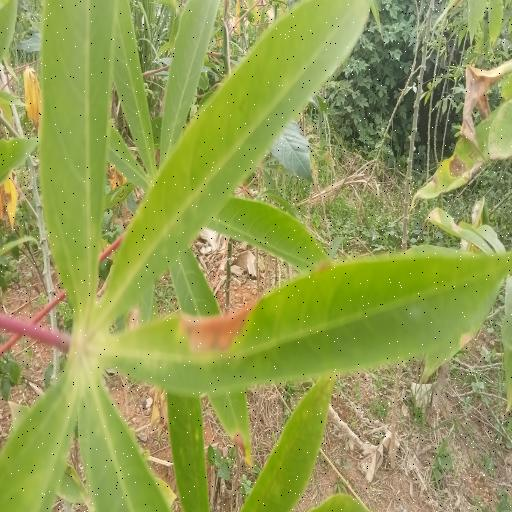Cassava_Root_Rot: (1, 0, 511, 512)
